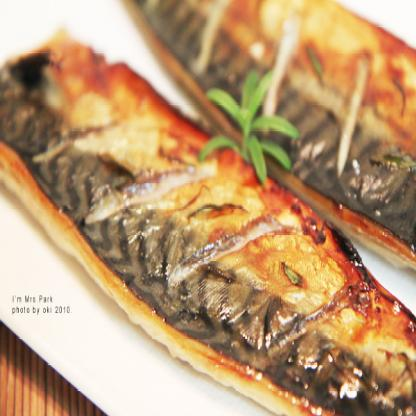Peixe: (7, 0, 416, 396)
